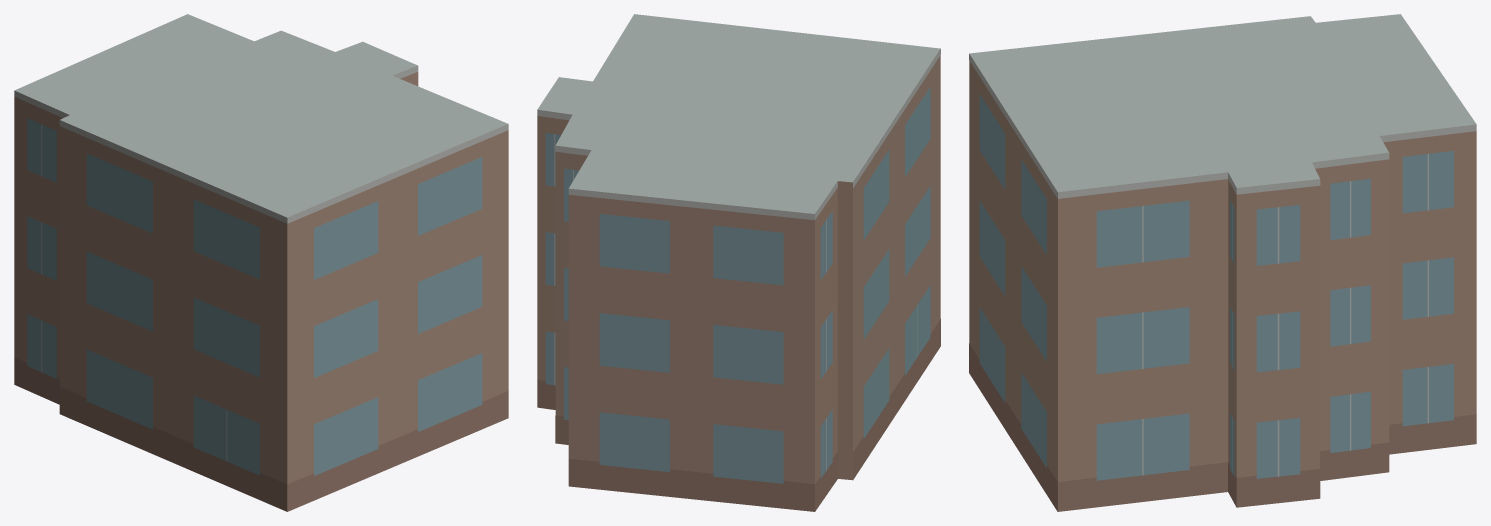
Rendered from survey-upis-32502177.glb.
3 views of the same model, side by side, from view 1: azimuth 30°, elevation 25°; view 2: azimuth 150°, elevation 25°; view 3: azimuth 270°, elevation 25° (orthographic). The views are drawn at different scales.
Parts seen in each view (by area): view 1: survey-upis-32502177.tmp; view 2: survey-upis-32502177.tmp; view 3: survey-upis-32502177.tmp.
Boxes of the visible parts, box(x1,y1,x2,y2) form: survey-upis-32502177.tmp: box(14, 14, 508, 511); survey-upis-32502177.tmp: box(537, 14, 940, 511); survey-upis-32502177.tmp: box(969, 14, 1476, 511).
Bounding box in the file's own units: 14.13 × 11.8 × 17.
